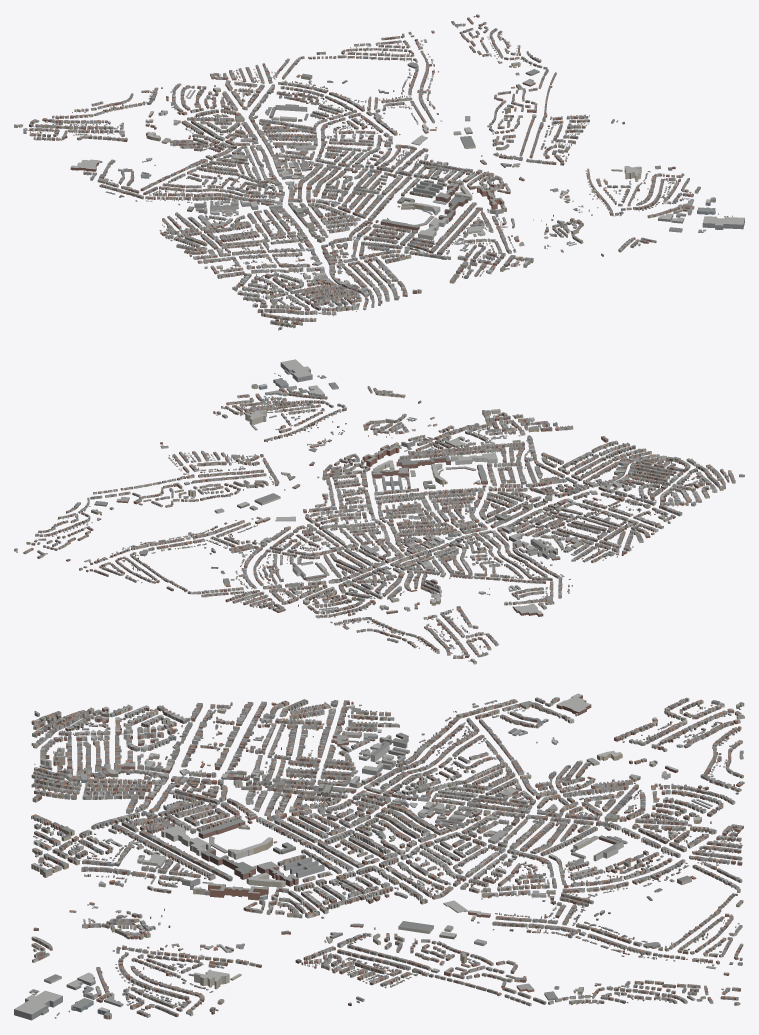
The model's file is buildings_b0_2_3.glb.
3 renders of one model, top to bottom at view 1: azimuth 30°, elevation 25°; view 2: azimuth 150°, elevation 25°; view 3: azimuth 270°, elevation 25°, orthographic. The views are drawn at different scales.
Visible parts, largest first — view 1: t08_12_buildings_b0, t09_14_buildings_b0, t08_13_buildings_b0, t09_13_buildings_b0, t09_12_buildings_b0, t09_15_buildings_b0, t08_14_buildings_b0, t10_13_buildings_b0, t10_14_buildings_b0, t11_12_buildings_b0, t08_15_buildings_b0, t10_15_buildings_b0 (+4 smaller); view 2: t09_14_buildings_b0, t09_13_buildings_b0, t08_12_buildings_b0, t08_13_buildings_b0, t09_12_buildings_b0, t09_15_buildings_b0, t10_13_buildings_b0, t10_14_buildings_b0, t08_14_buildings_b0, t11_12_buildings_b0, t08_15_buildings_b0, t10_15_buildings_b0 (+4 smaller); view 3: t09_14_buildings_b0, t09_13_buildings_b0, t08_12_buildings_b0, t08_13_buildings_b0, t09_15_buildings_b0, t09_12_buildings_b0, t10_13_buildings_b0, t10_14_buildings_b0, t08_14_buildings_b0, t11_12_buildings_b0, t10_15_buildings_b0, t10_12_buildings_b0 (+4 smaller).
Part boxes in pixels (x1=…): t08_12_buildings_b0: x1=217, y1=249, x2=398, y2=330; t09_14_buildings_b0: x1=198, y1=123, x2=377, y2=198; t08_13_buildings_b0: x1=159, y1=198, x2=325, y2=274; t09_13_buildings_b0: x1=264, y1=170, x2=434, y2=249; t09_12_buildings_b0: x1=332, y1=217, x2=509, y2=298; t09_15_buildings_b0: x1=130, y1=68, x2=308, y2=145; t08_14_buildings_b0: x1=83, y1=145, x2=260, y2=219; t10_13_buildings_b0: x1=379, y1=143, x2=524, y2=221; t10_14_buildings_b0: x1=314, y1=96, x2=475, y2=171; t11_12_buildings_b0: x1=563, y1=171, x2=744, y2=247; t08_15_buildings_b0: x1=14, y1=96, x2=193, y2=171; t10_15_buildings_b0: x1=245, y1=43, x2=423, y2=119; t09_14_buildings_b0: x1=317, y1=511, x2=493, y2=583; t09_13_buildings_b0: x1=378, y1=464, x2=558, y2=539; t08_12_buildings_b0: x1=564, y1=442, x2=744, y2=516; t08_13_buildings_b0: x1=496, y1=493, x2=675, y2=562; t09_12_buildings_b0: x1=450, y1=414, x2=627, y2=492; t09_15_buildings_b0: x1=248, y1=561, x2=427, y2=632; t10_13_buildings_b0: x1=262, y1=444, x2=450, y2=511; t10_14_buildings_b0: x1=198, y1=493, x2=373, y2=559; t08_14_buildings_b0: x1=428, y1=539, x2=594, y2=609; t11_12_buildings_b0: x1=221, y1=359, x2=393, y2=443; t08_15_buildings_b0: x1=363, y1=584, x2=543, y2=664; t10_15_buildings_b0: x1=130, y1=534, x2=301, y2=605; t09_14_buildings_b0: x1=385, y1=775, x2=567, y2=860; t09_13_buildings_b0: x1=198, y1=776, x2=390, y2=859; t08_12_buildings_b0: x1=31, y1=703, x2=212, y2=787; t08_13_buildings_b0: x1=209, y1=699, x2=392, y2=784; t09_15_buildings_b0: x1=560, y1=771, x2=744, y2=861; t09_12_buildings_b0: x1=31, y1=782, x2=218, y2=859; t10_13_buildings_b0: x1=201, y1=848, x2=390, y2=940; t10_14_buildings_b0: x1=385, y1=855, x2=566, y2=939; t08_14_buildings_b0: x1=381, y1=697, x2=566, y2=782; t11_12_buildings_b0: x1=14, y1=939, x2=213, y2=1020; t10_15_buildings_b0: x1=563, y1=848, x2=743, y2=934; t10_12_buildings_b0: x1=31, y1=852, x2=212, y2=943.
Size of the model in its own units: 2027 by 81.72 by 2065.
